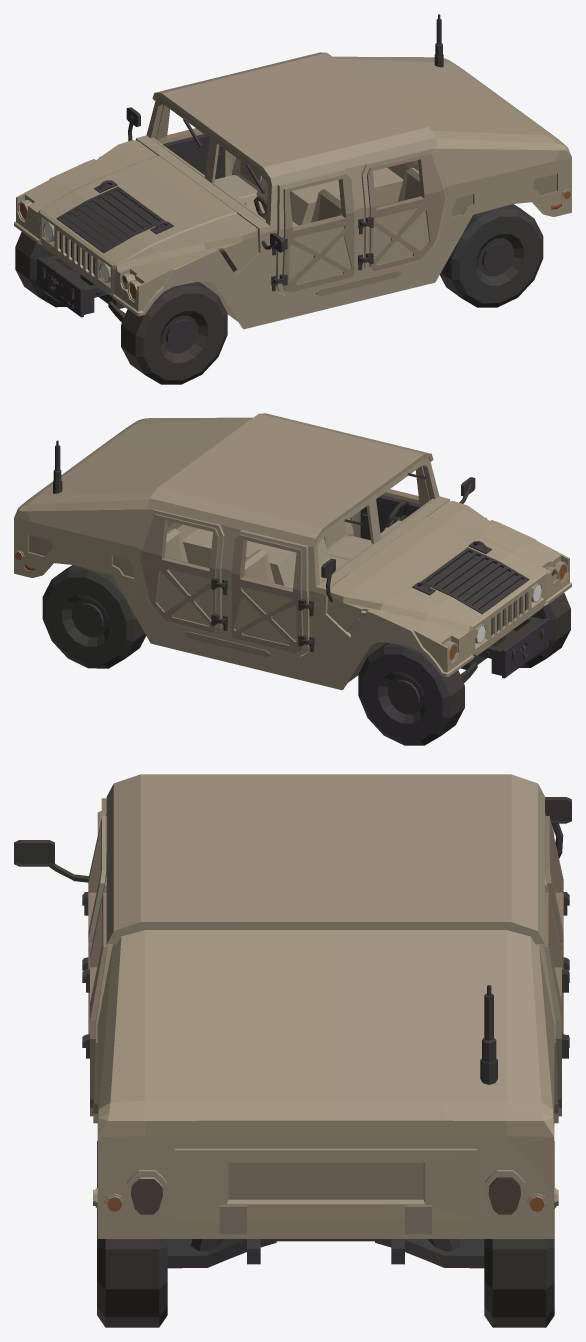
Rendered from Humvee-transformed.glb.
3 views of the same model, one above another, from view 1: azimuth 30°, elevation 25°; view 2: azimuth 150°, elevation 25°; view 3: azimuth 270°, elevation 25° (orthographic). The views are drawn at different scales.
Parts seen in each view (by area): view 1: humvee.001; view 2: humvee.001; view 3: humvee.001.
Part boxes in pixels (bbox=[...]): humvee.001: bbox=[14, 14, 571, 384]; humvee.001: bbox=[14, 413, 571, 745]; humvee.001: bbox=[14, 774, 571, 1327].
Size of the model in its own units: 4.68 by 2 by 2.7.
1 material, 1 textured.
